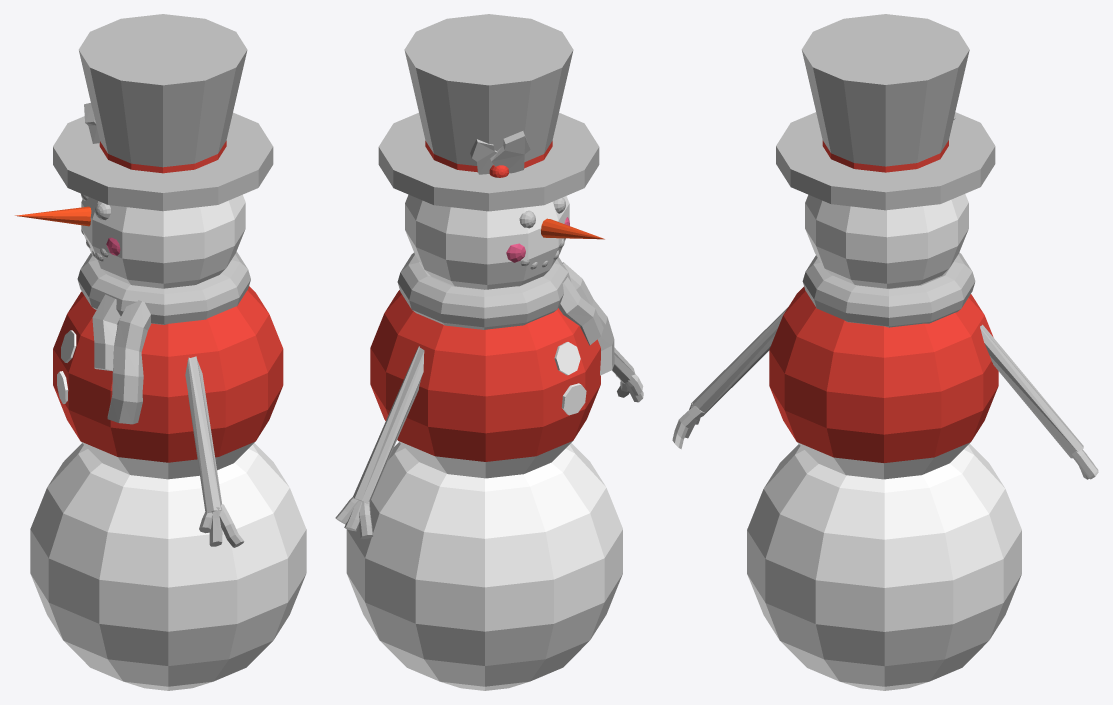
Rendered from frosty.obj.
3 views of the same model, side by side, from view 1: azimuth 30°, elevation 25°; view 2: azimuth 150°, elevation 25°; view 3: azimuth 270°, elevation 25° (orthographic).
Parts seen in each view (by area): view 1: group1522281990, group396693100, group24528579, group782497130, group818336702, group708977906, group927813173, group148953620, group53042870, group1128189315, group1901817716; view 2: group1522281990, group396693100, group24528579, group782497130, group818336702, group708977906, group62286769, group53042870, group927813173, group603932705, group1128189315, group1167757391 (+2 smaller); view 3: group1522281990, group396693100, group24528579, group818336702, group782497130, group708977906, group62286769, group148953620.
Part boxes in pixels (box(x1,y1,x2,y2)): group1522281990: box(30, 443, 306, 690); group396693100: box(53, 286, 283, 479); group24528579: box(78, 14, 247, 173); group782497130: box(53, 112, 273, 211); group818336702: box(81, 195, 245, 288); group708977906: box(77, 251, 250, 324); group927813173: box(107, 300, 151, 424); group148953620: box(185, 356, 222, 512); group53042870: box(92, 294, 120, 371); group1128189315: box(15, 206, 91, 226); group1901817716: box(219, 504, 244, 547); group1522281990: box(346, 442, 622, 690); group396693100: box(370, 290, 600, 478); group24528579: box(404, 14, 573, 172); group782497130: box(378, 112, 599, 211); group818336702: box(405, 194, 569, 289); group708977906: box(397, 253, 571, 329); group62286769: box(353, 346, 424, 503); group53042870: box(558, 276, 603, 345); group927813173: box(562, 262, 614, 375); group603932705: box(490, 131, 530, 173); group1128189315: box(541, 218, 604, 239); group1167757391: box(554, 342, 580, 375); group1522281990: box(747, 443, 1021, 690); group396693100: box(769, 287, 998, 479); group24528579: box(801, 14, 969, 172); group818336702: box(805, 194, 968, 288); group782497130: box(776, 112, 995, 210); group708977906: box(802, 252, 975, 327); group62286769: box(980, 324, 1083, 458); group148953620: box(690, 307, 787, 417).
Bounding box in the file's own units: 0.4444 × 1.04 × 0.6411.
